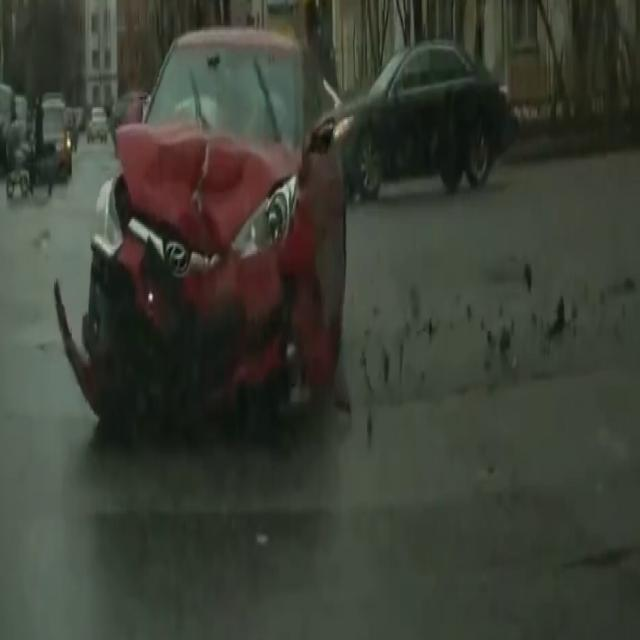accident: (57, 38, 368, 450)
